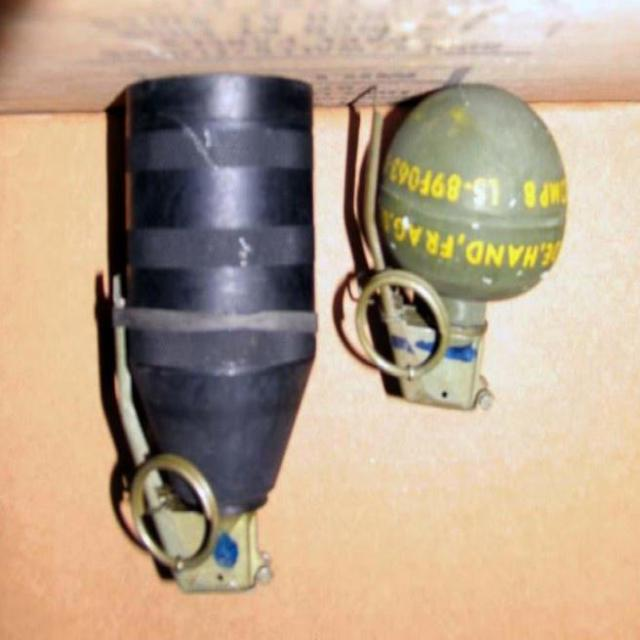grenade: (113, 75, 321, 595), (355, 87, 567, 414)
